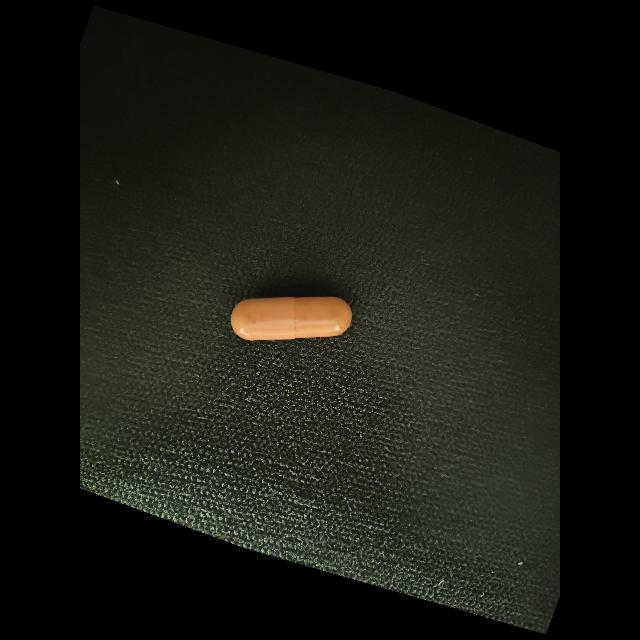Intact Capsule: (231, 297, 352, 340)
